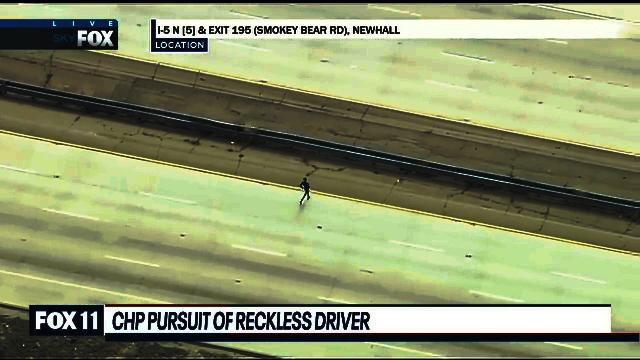berlari: (296, 174, 312, 206)
